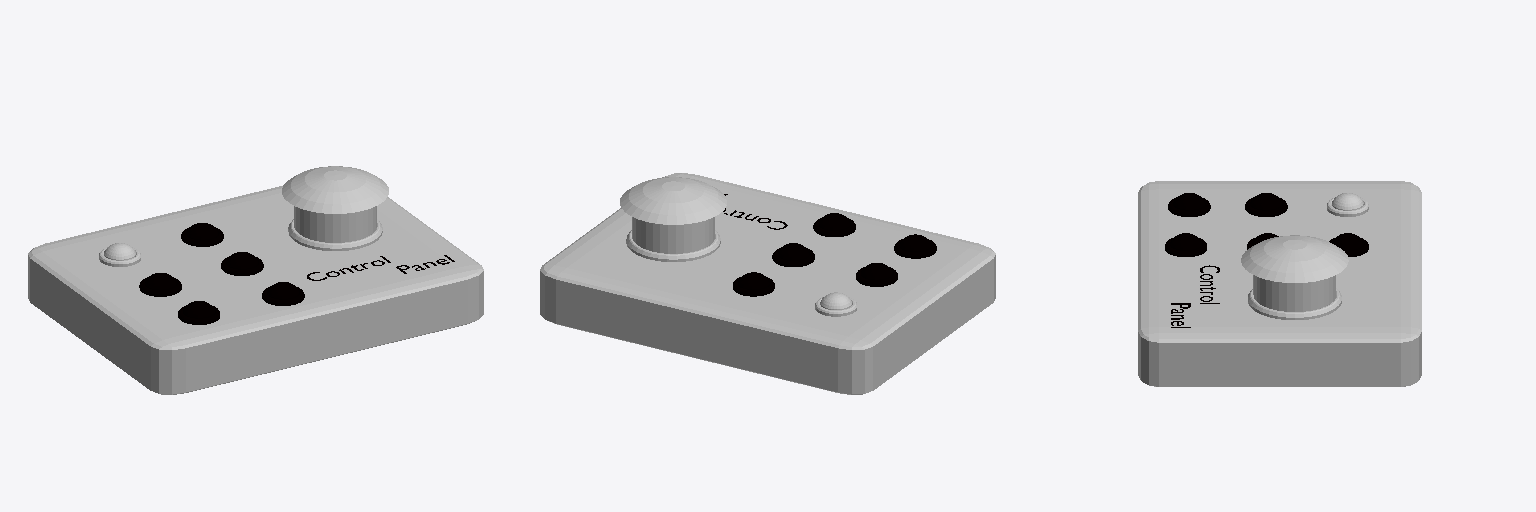
The model's file is Pannel_control.obj.
3 renders of one model, left to right at view 1: azimuth 30°, elevation 25°; view 2: azimuth 150°, elevation 25°; view 3: azimuth 270°, elevation 25°, orthographic.
Parts seen in each view (by area): view 1: Pannel, Cylinder, Cylinder.001; view 2: Pannel, Cylinder, Cylinder.001; view 3: Pannel, Cylinder, Cylinder.001.
Boxes of the visible parts, x1=… form: Pannel: x1=28, y1=186, x2=483, y2=394; Cylinder: x1=282, y1=166, x2=388, y2=242; Cylinder.001: x1=288, y1=219, x2=382, y2=250; Pannel: x1=540, y1=173, x2=995, y2=394; Cylinder: x1=620, y1=177, x2=726, y2=253; Cylinder.001: x1=626, y1=230, x2=720, y2=261; Pannel: x1=1138, y1=181, x2=1421, y2=386; Cylinder: x1=1241, y1=235, x2=1348, y2=311; Cylinder.001: x1=1248, y1=288, x2=1341, y2=319.
Size of the model in its own units: 2.7 by 0.8413 by 2.